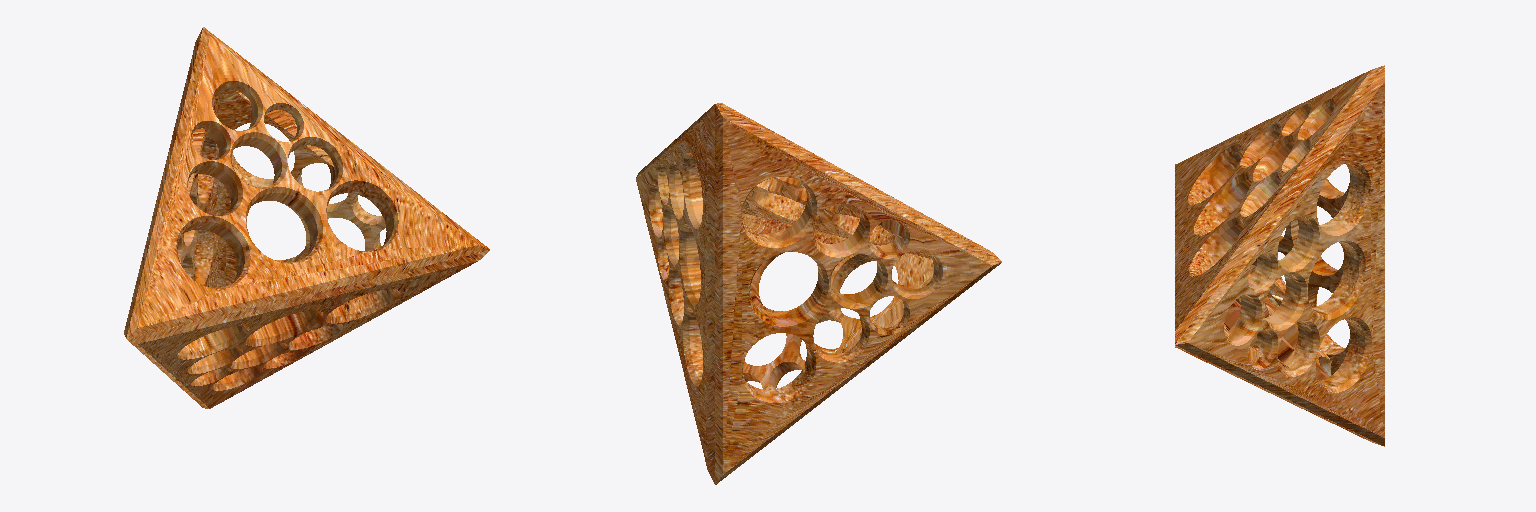
3 renders of one model, left to right at view 1: azimuth 30°, elevation 25°; view 2: azimuth 150°, elevation 25°; view 3: azimuth 270°, elevation 25°, orthographic.
Parts seen in each view (by area): view 1: Cube.008; view 2: Cube.008; view 3: Cube.008.
Part boxes in pixels (x1,y1,x2,y2): Cube.008: (124,27,489,408); Cube.008: (636,103,1001,484); Cube.008: (1175,65,1384,446).
Size of the model in its own units: 4 by 4 by 2.
1 materials, 1 textured.